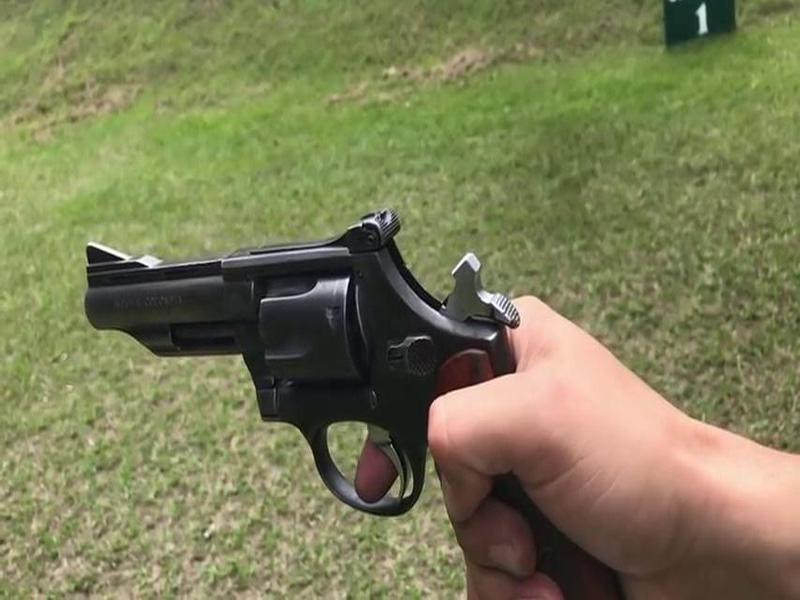Revolver: (75, 202, 528, 517)
